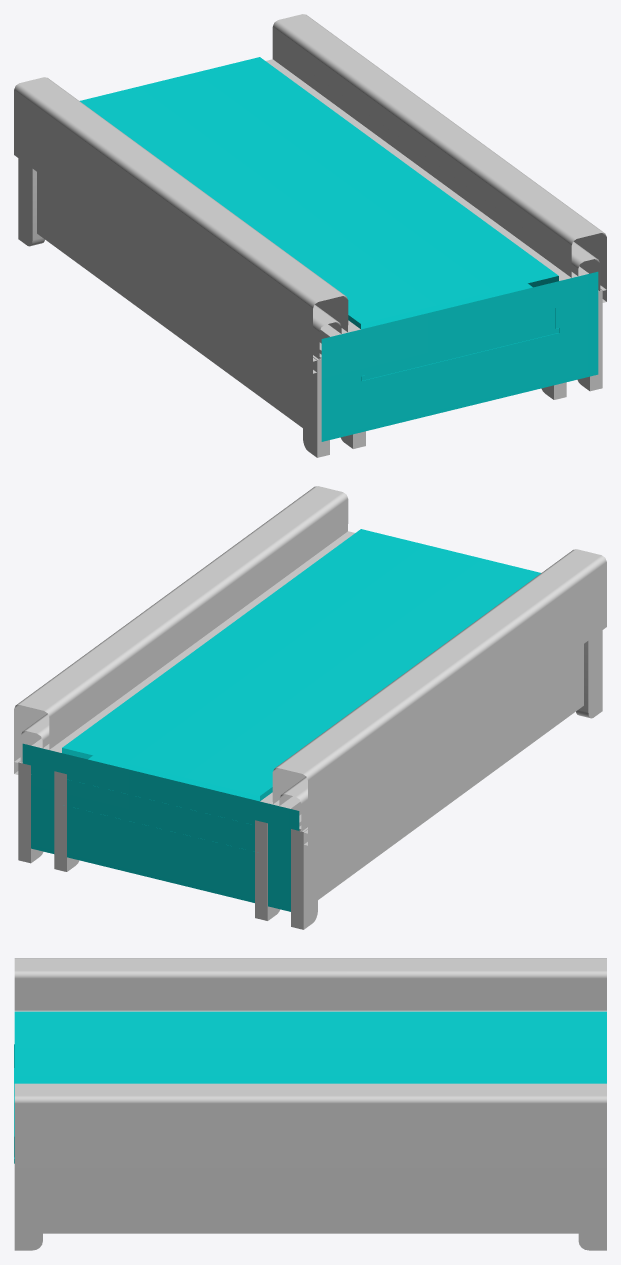
Rendered from BeltDefaultForwardInternalVariant.gltf.
3 renders of one model, top to bottom at view 1: azimuth 30°, elevation 25°; view 2: azimuth 150°, elevation 25°; view 3: azimuth 270°, elevation 25°, orthographic.
Parts seen in each view (by area): view 1: Belt_StraightBorder_Layer0_LOD0, Belt_Straight_LOD0, Belt_StraightBorder_Layer1_LOD0, Belt_StraightBorder_Layer2_LOD0; view 2: Belt_StraightBorder_Layer0_LOD0, Belt_Straight_LOD0, Belt_StraightBorder_Layer1_LOD0, Belt_StraightBorder_Layer2_LOD0; view 3: Belt_StraightBorder_Layer0_LOD0, Belt_Straight_LOD0, Belt_StraightBorder_Layer2_LOD0, Belt_StraightBorder_Layer1_LOD0.
Boxes of the visible parts, x1,y1,x2,y2 form: Belt_StraightBorder_Layer0_LOD0: (14, 14, 606, 441); Belt_Straight_LOD0: (80, 57, 588, 336); Belt_StraightBorder_Layer1_LOD0: (18, 24, 606, 457); Belt_StraightBorder_Layer2_LOD0: (313, 75, 600, 381); Belt_StraightBorder_Layer0_LOD0: (14, 486, 606, 911); Belt_Straight_LOD0: (32, 529, 540, 808); Belt_StraightBorder_Layer1_LOD0: (14, 496, 602, 929); Belt_StraightBorder_Layer2_LOD0: (20, 547, 307, 831); Belt_StraightBorder_Layer0_LOD0: (14, 958, 606, 1233); Belt_Straight_LOD0: (14, 1010, 606, 1083); Belt_StraightBorder_Layer2_LOD0: (14, 996, 524, 1163); Belt_StraightBorder_Layer1_LOD0: (14, 959, 606, 1250).
Bounding box in the file's own units: 0.568 × 0.2873 × 1.
